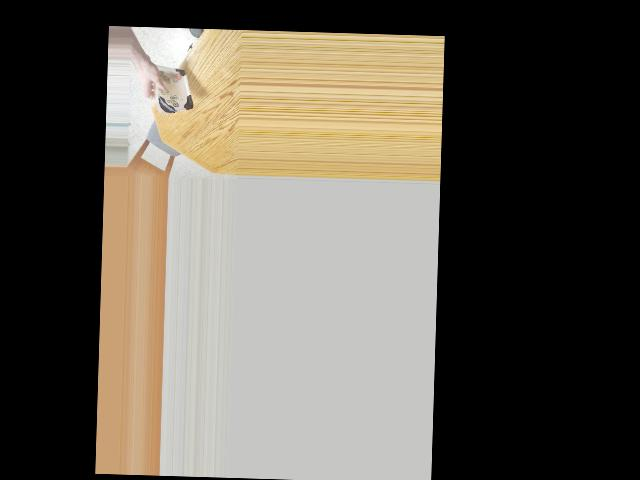cheese: (153, 59, 191, 117)
